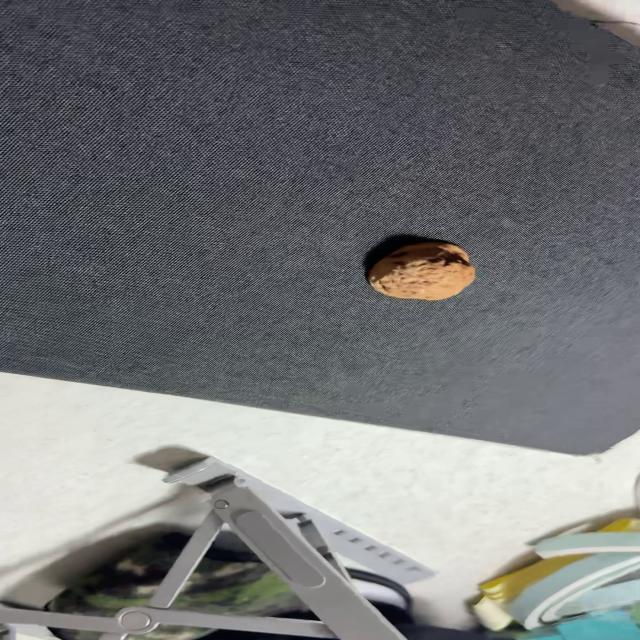nuts-bad0.5: (367, 240, 475, 300)
